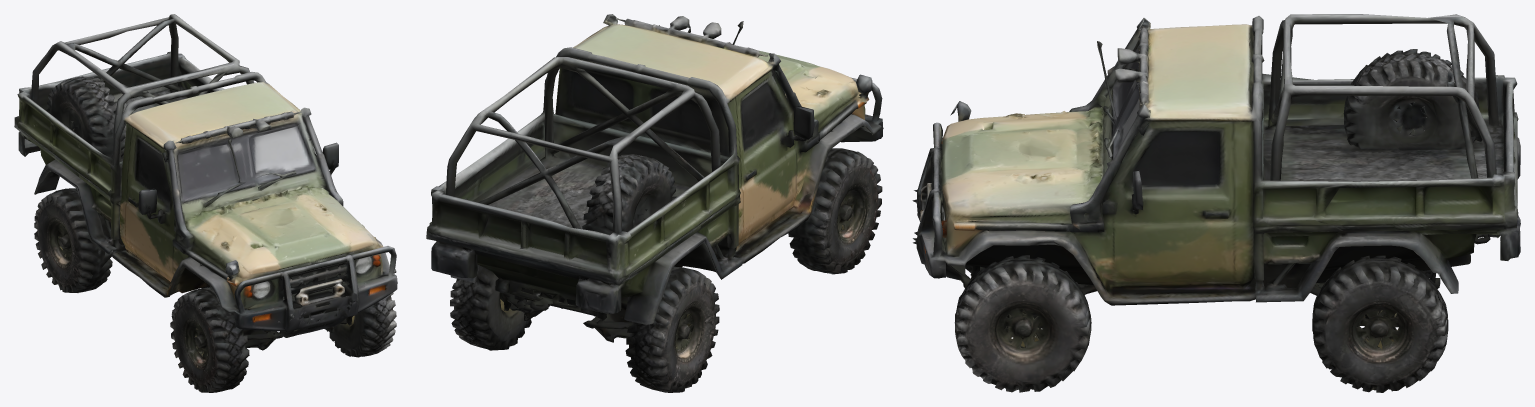
Rendered from jeep.fbx.
3 renders of one model, left to right at view 1: azimuth 30°, elevation 25°; view 2: azimuth 150°, elevation 25°; view 3: azimuth 270°, elevation 25°, orthographic. The views are drawn at different scales.
Parts seen in each view (by area): view 1: jeep; view 2: jeep; view 3: jeep.
Boxes of the visible parts, x1,y1,x2,y2 form: jeep: [14, 14, 397, 392]; jeep: [426, 14, 883, 392]; jeep: [912, 14, 1520, 392].
Size of the model in its own units: 1.93 by 2.05 by 3.9.
Materials: 1 (1 with a texture image).
